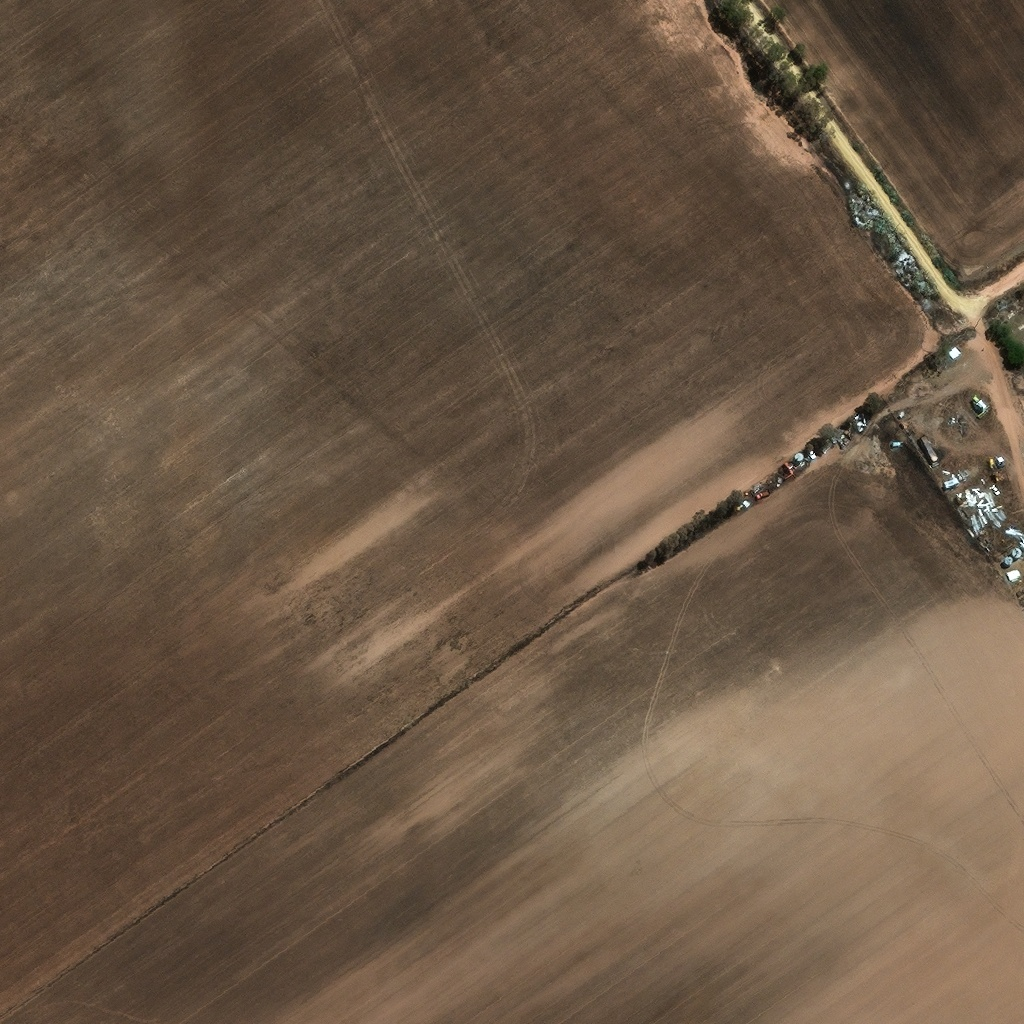0 no-damage: (920, 432, 942, 461), (1005, 546, 1023, 564), (944, 474, 961, 486), (1009, 564, 1023, 578), (949, 343, 962, 356)
4 un-classified: (951, 482, 963, 493)
